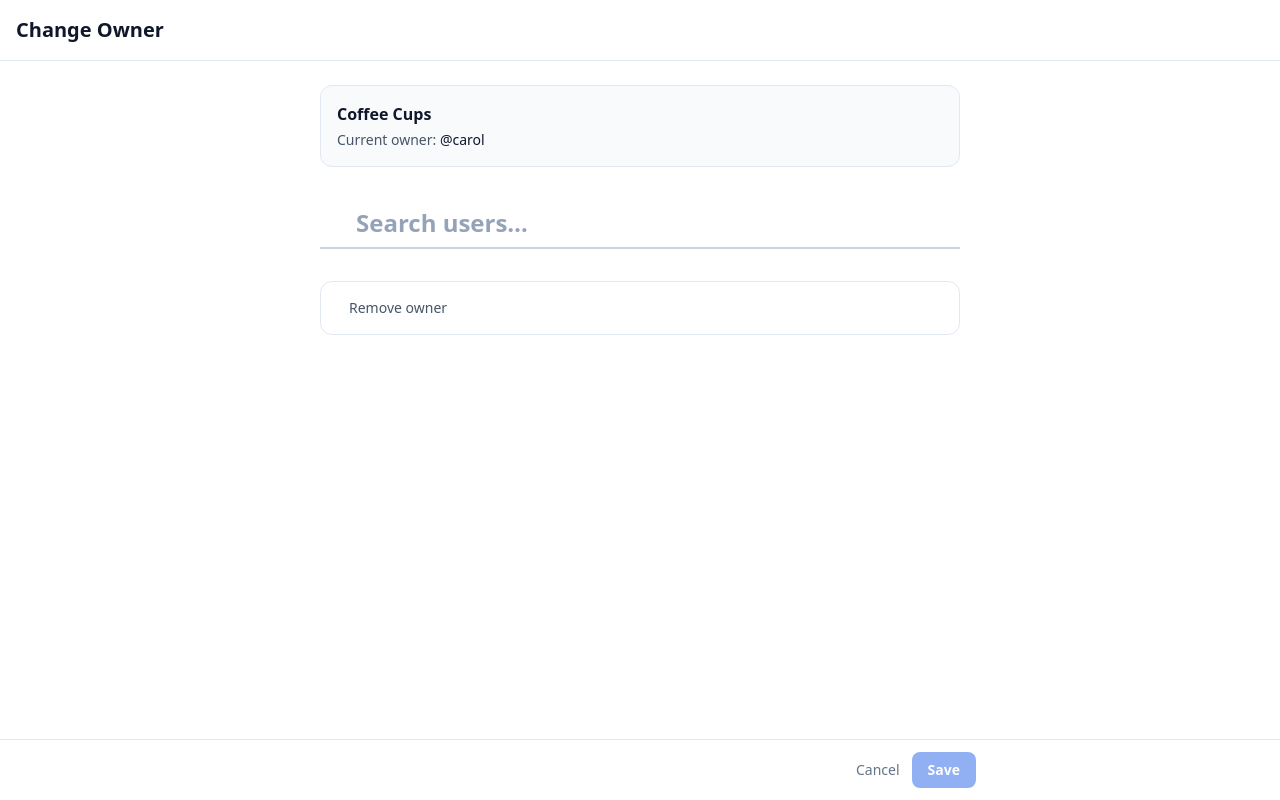
Test: ChangeOwnerOverlay › disables Save until a selection is made
This screenshot has width=1280, height=800.
Expected: the button "Save" is disabled, [912,752,976,788]
Step 1. Type "al" into the field labelled "Search users" → [640, 224], box [320,199,960,249]
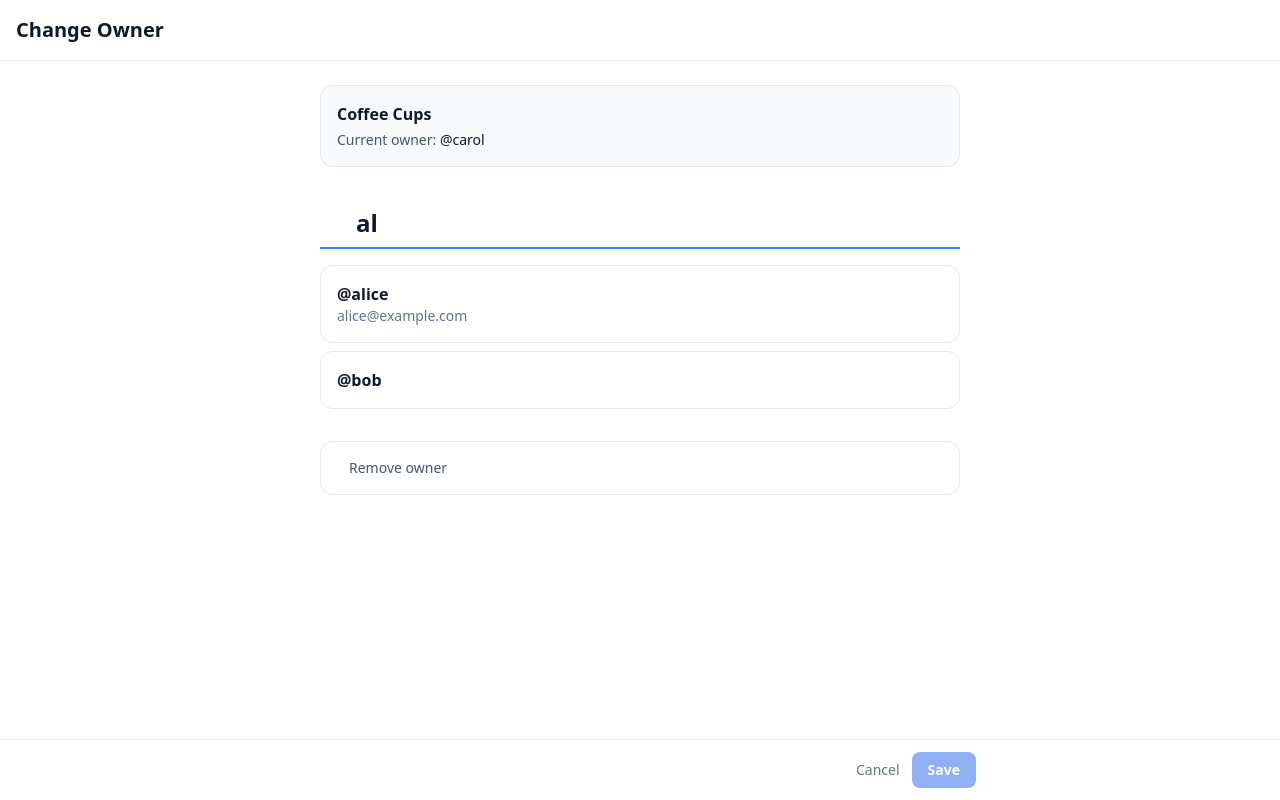
Step 2. Click the button "@alice alice@example.com" → [363, 294], box [320,265,960,343]
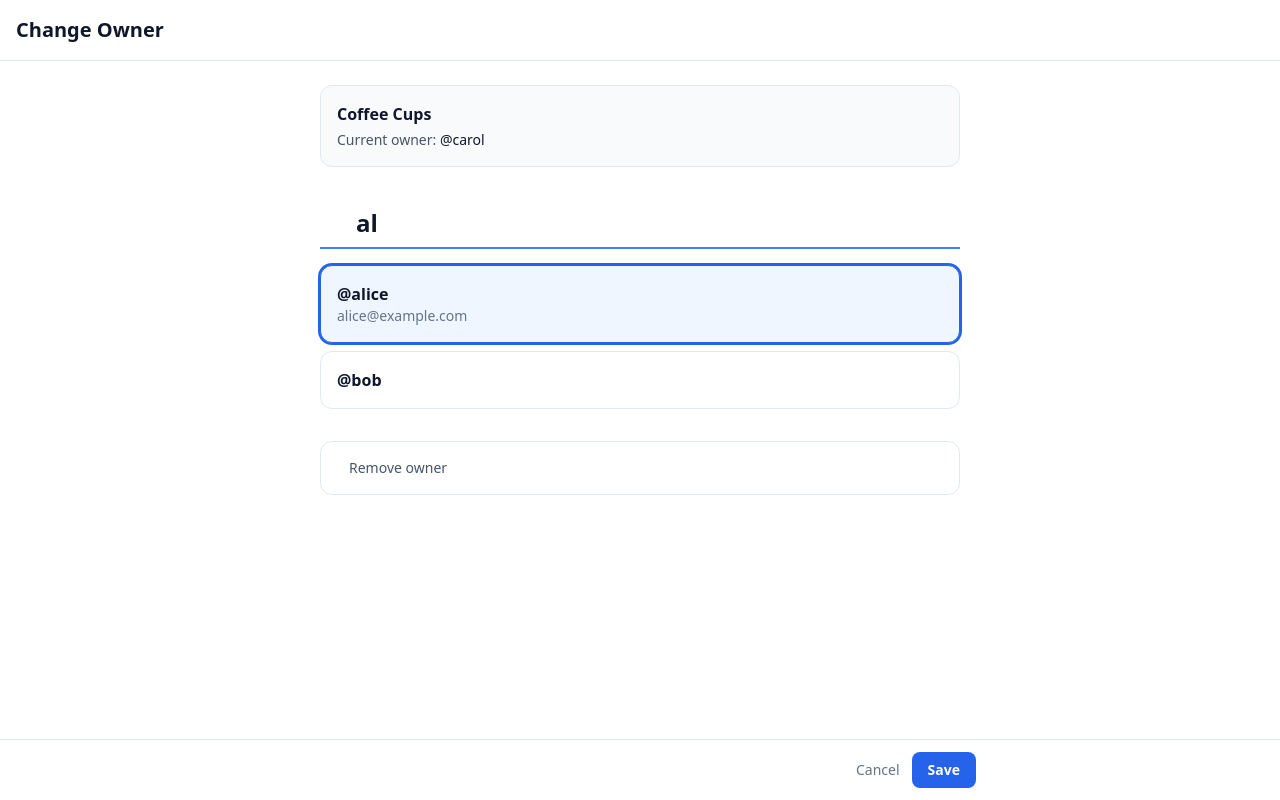
Expected: the button "Save" is enabled, [912,752,976,788]
